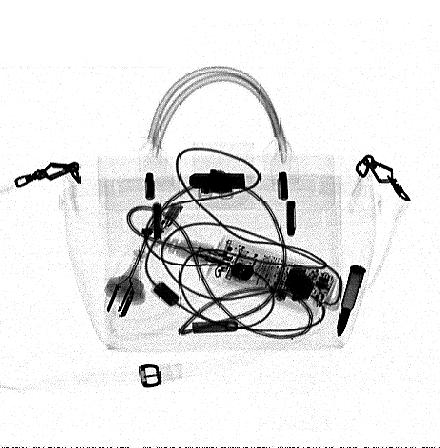Bullet: (337, 264, 367, 339)
